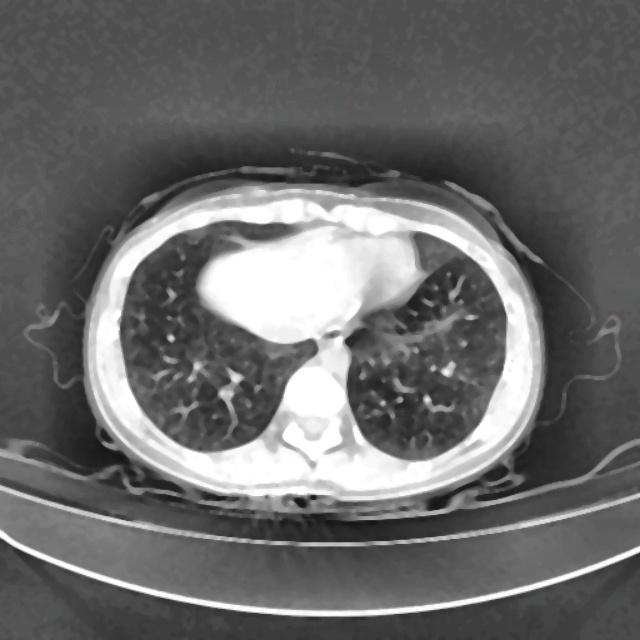covid: (80, 160, 551, 515)
